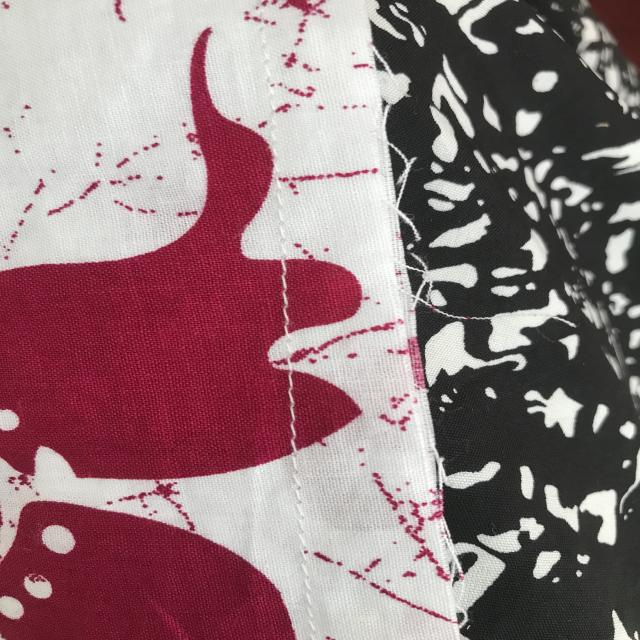good: (276, 474, 321, 578), (269, 375, 315, 445), (260, 272, 312, 324)
